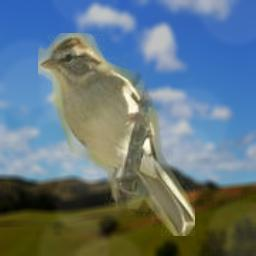Sparrow: (38, 33, 195, 236)
